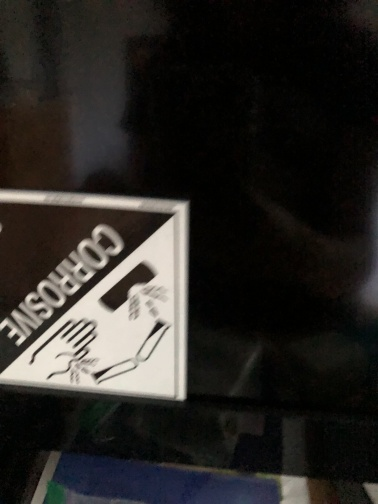Corrosive: (2, 197, 182, 402)
